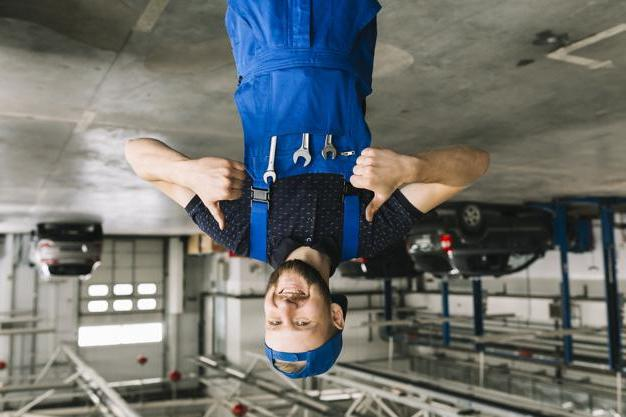thumbsdown: (349, 147, 386, 222), (209, 159, 245, 231)
